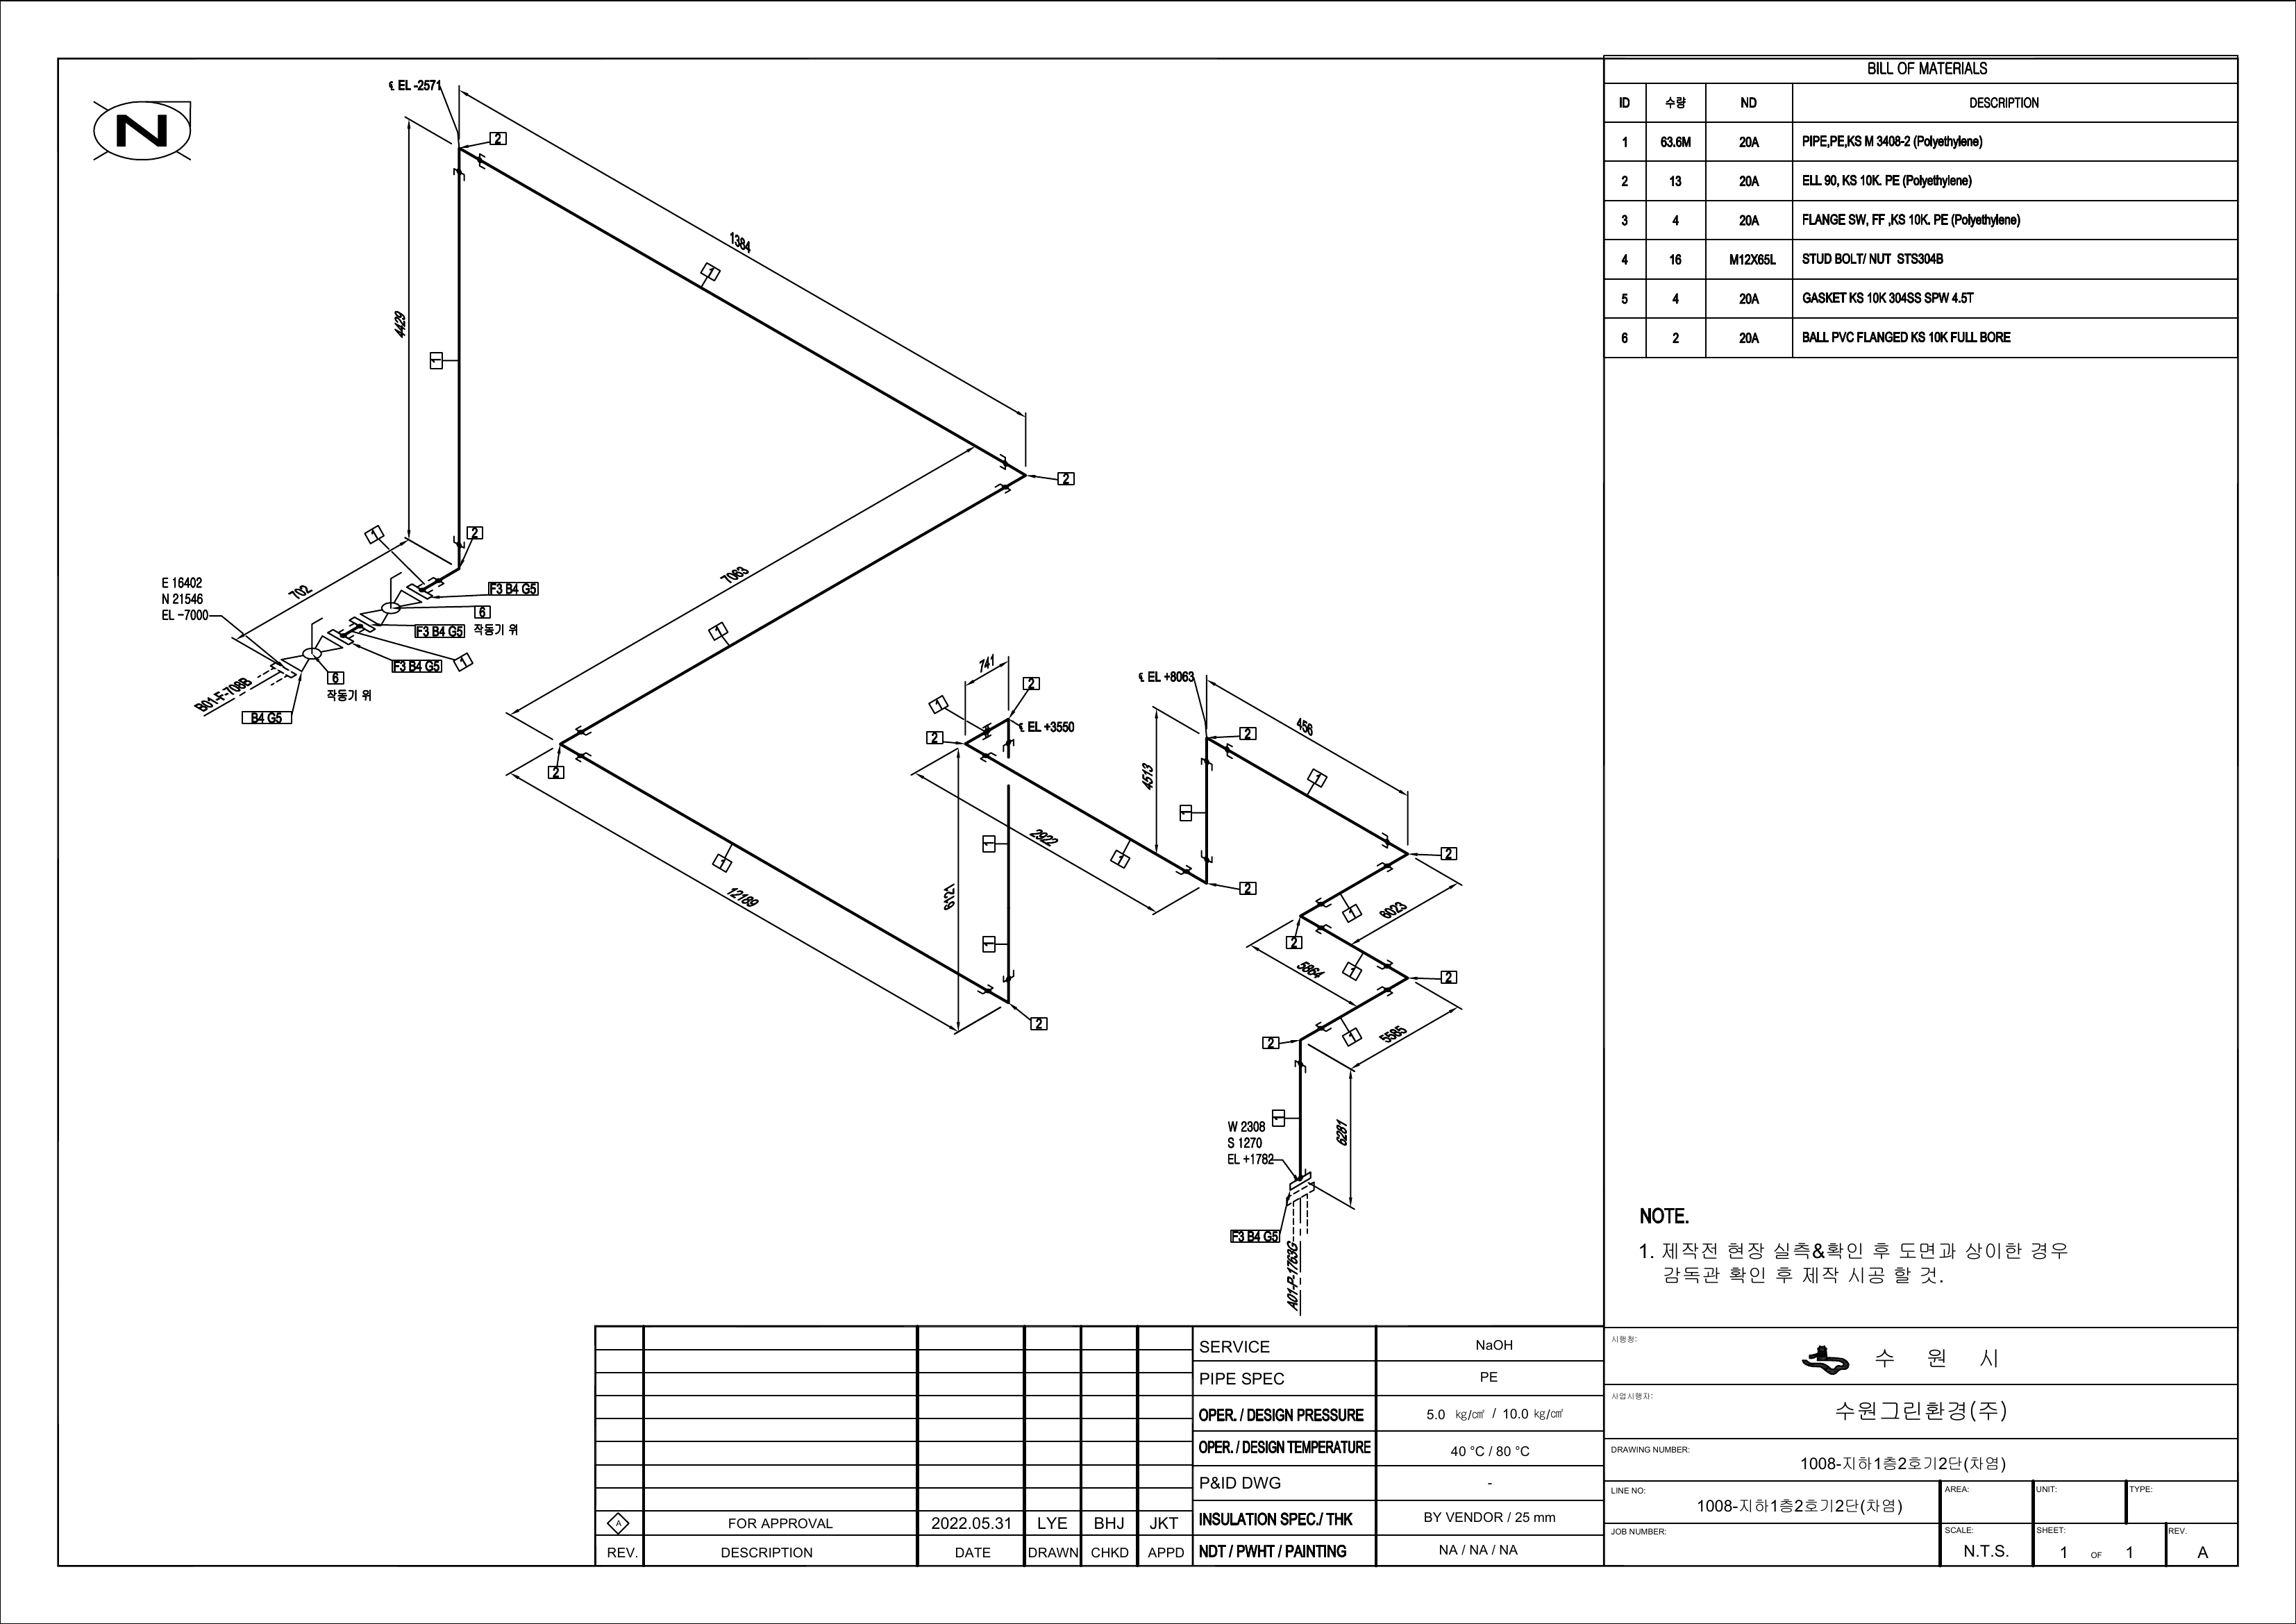table: (1597, 47, 2247, 369)
